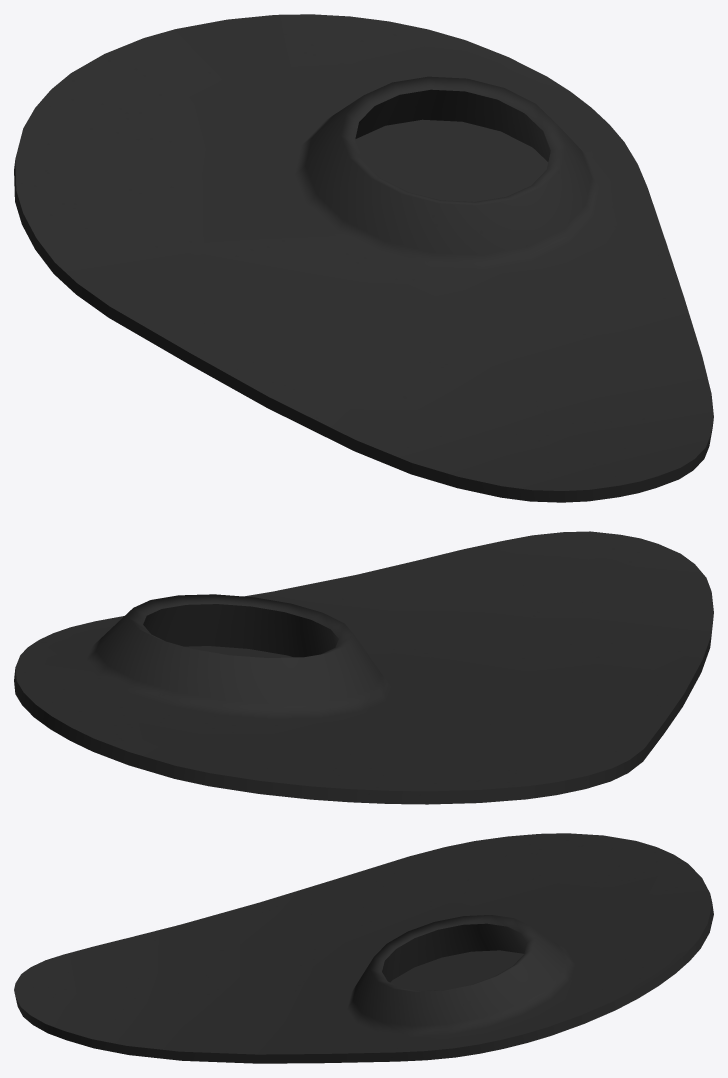
Rendered from oculus_quest_controller_right_facePlate.obj.
The picture shows the model from 3 angles, top to bottom: view 1: azimuth 30°, elevation 25°; view 2: azimuth 150°, elevation 25°; view 3: azimuth 270°, elevation 25°; orthographic projection. The views are drawn at different scales.
Size of the model in its own units: 0.0447 by 0.0104 by 0.0648.
